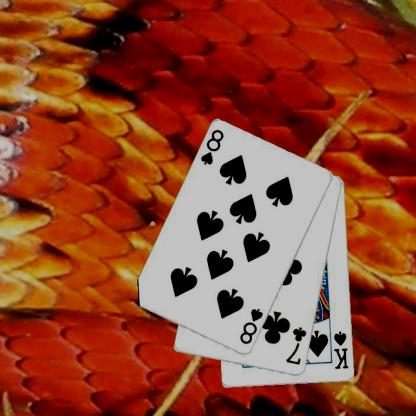7C: (283, 324, 308, 367)
8S: (237, 306, 264, 346), (198, 127, 225, 166)
KS: (332, 328, 350, 371)
